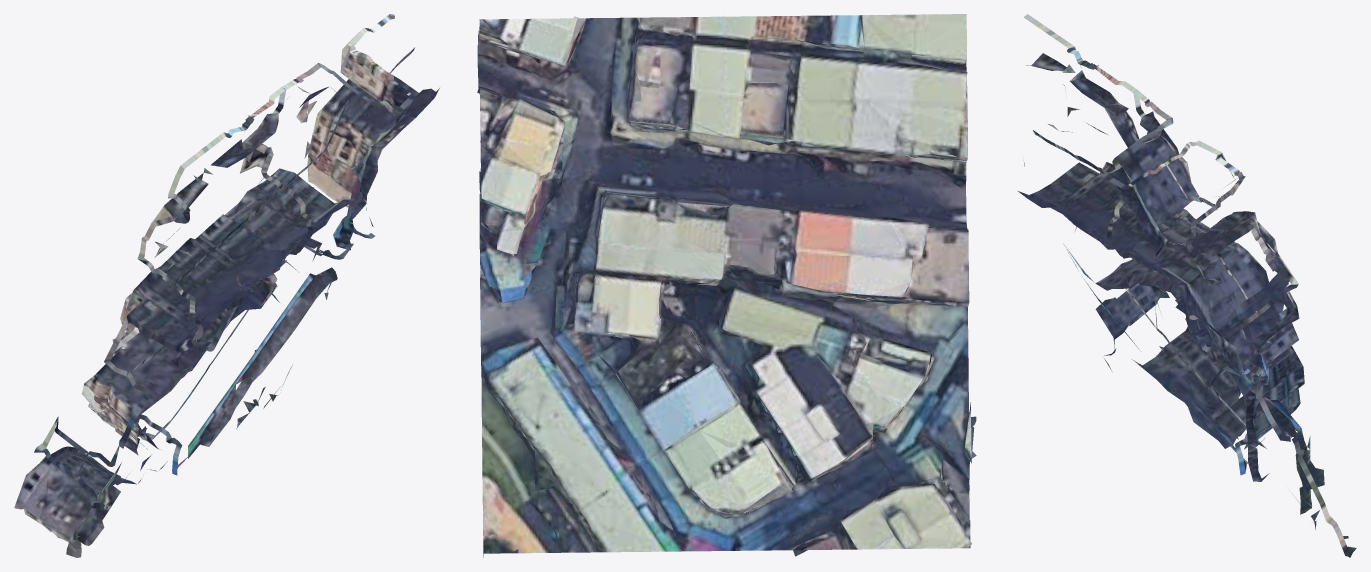
3 renders of one model, left to right at view 1: azimuth 30°, elevation 25°; view 2: azimuth 150°, elevation 25°; view 3: azimuth 270°, elevation 25°, orthographic. The views are drawn at different scales.
Bounding box in the file's own units: 81.63 × 75.54 × 57.6.
Materials: 2 (2 with a texture image).
